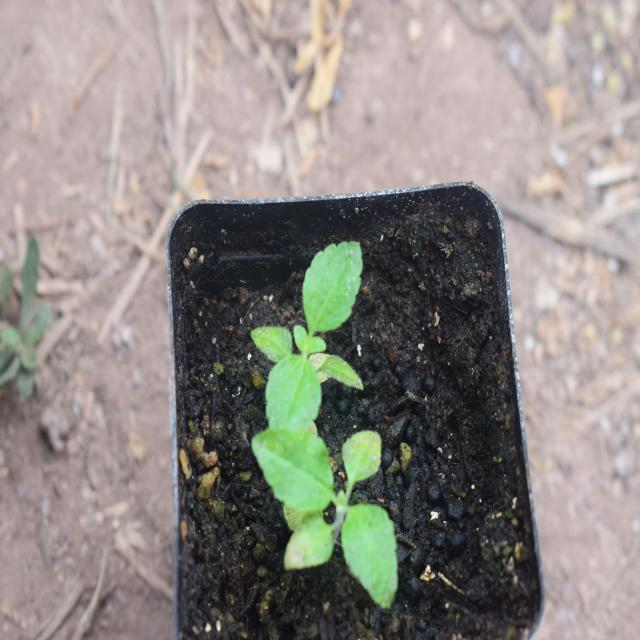billygoat_weed: (254, 212, 372, 456), (259, 416, 397, 607)
